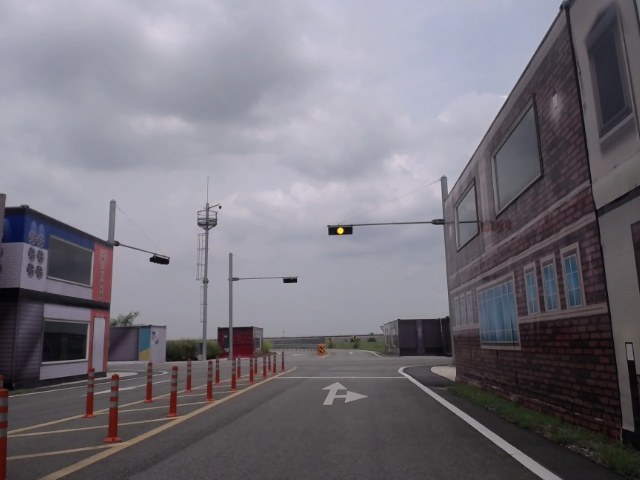orange_3: (328, 226, 353, 235)
